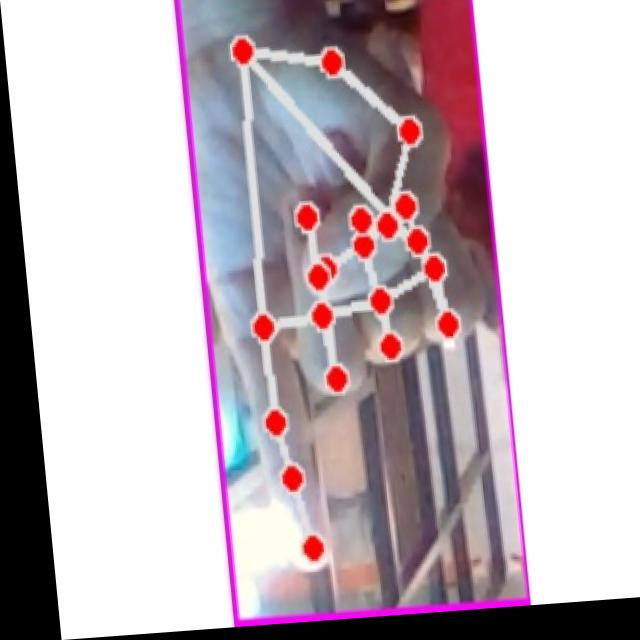I: (186, 0, 499, 587)
